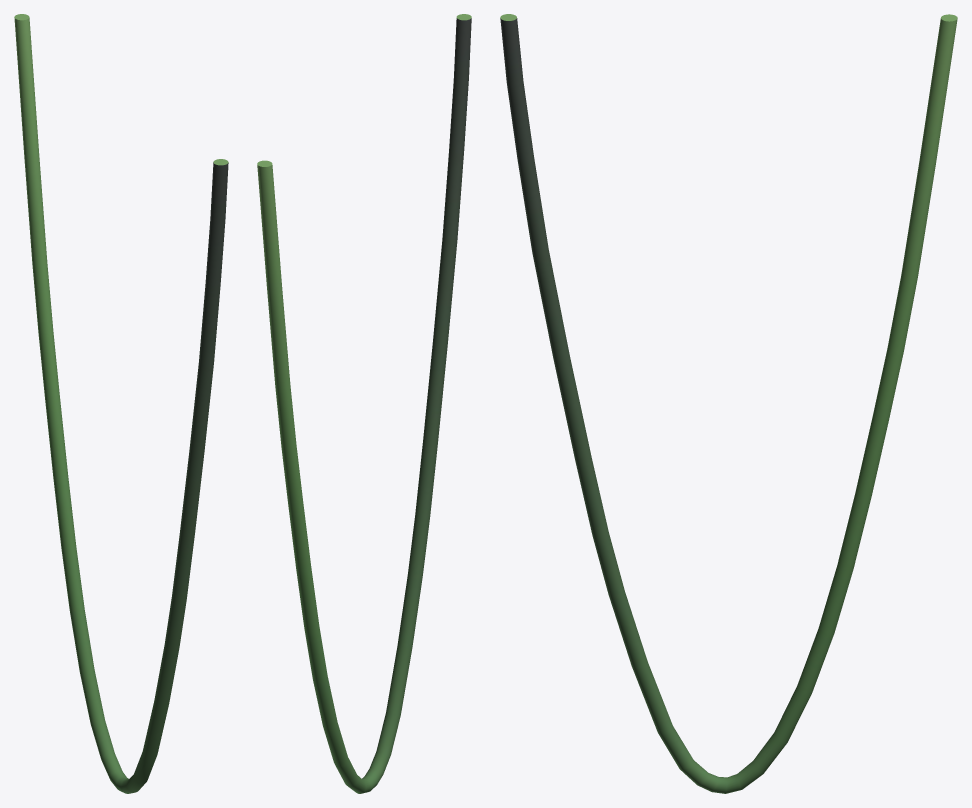
File: y=kx^2 parabola mayor.obj
The picture shows the model from 3 angles, left to right: view 1: azimuth 30°, elevation 25°; view 2: azimuth 150°, elevation 25°; view 3: azimuth 270°, elevation 25°; orthographic projection. The views are drawn at different scales.
Parts seen in each view (by area): view 1: parabola_kx__mayor1:Mesh; view 2: parabola_kx__mayor1:Mesh; view 3: parabola_kx__mayor1:Mesh.
Part boxes in pixels (x1,y1,x2,y2): parabola_kx__mayor1:Mesh: [14, 14, 228, 793]; parabola_kx__mayor1:Mesh: [257, 14, 471, 793]; parabola_kx__mayor1:Mesh: [500, 14, 957, 793].
Bounding box in the file's own units: 0.4068 × 20.41 × 10.91.
